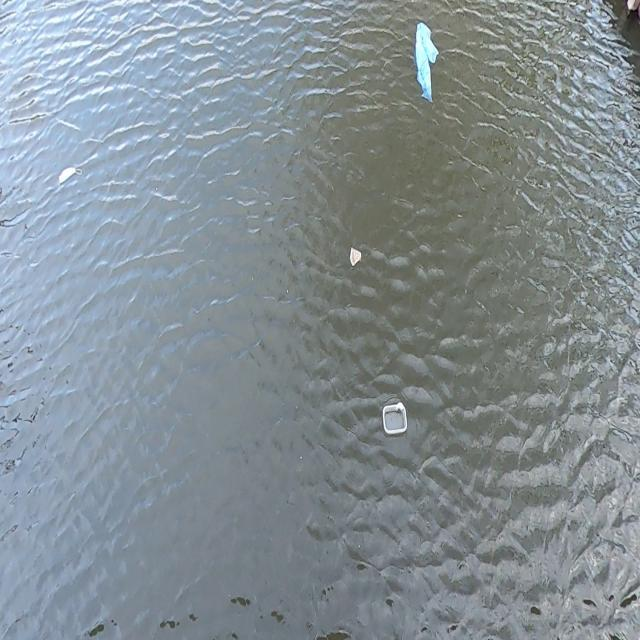Autre plastique: (379, 400, 410, 438)
Non plastique: (52, 160, 84, 194), (348, 247, 363, 271)
Sac plastique: (409, 14, 443, 105)
